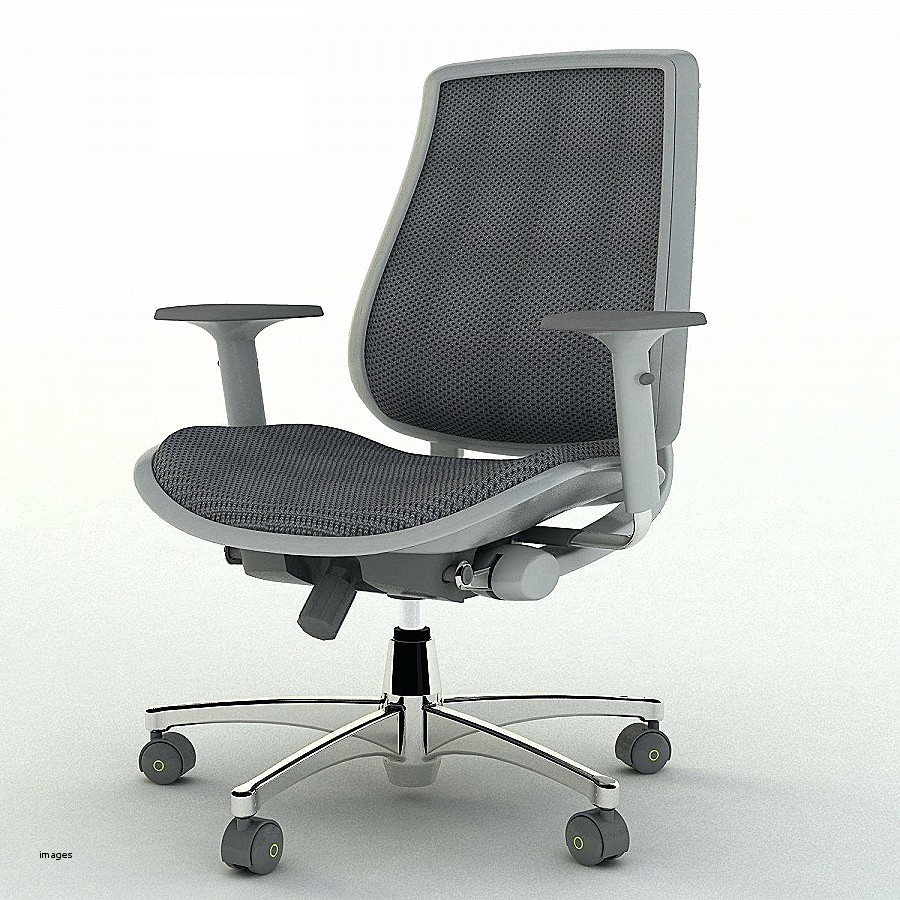chairs: (113, 35, 707, 877)
